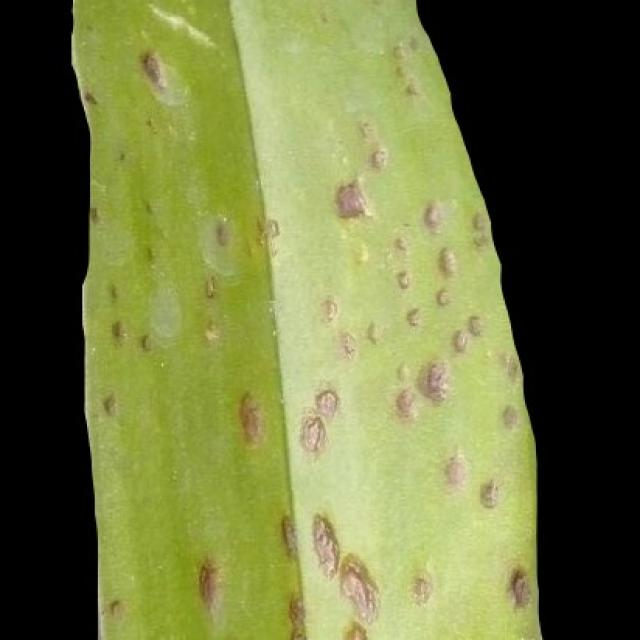mite: (197, 210, 242, 275), (418, 357, 450, 402), (298, 412, 328, 455), (407, 570, 432, 606), (477, 477, 499, 510), (421, 199, 443, 231), (211, 217, 231, 249)
spots: (67, 0, 548, 638)
